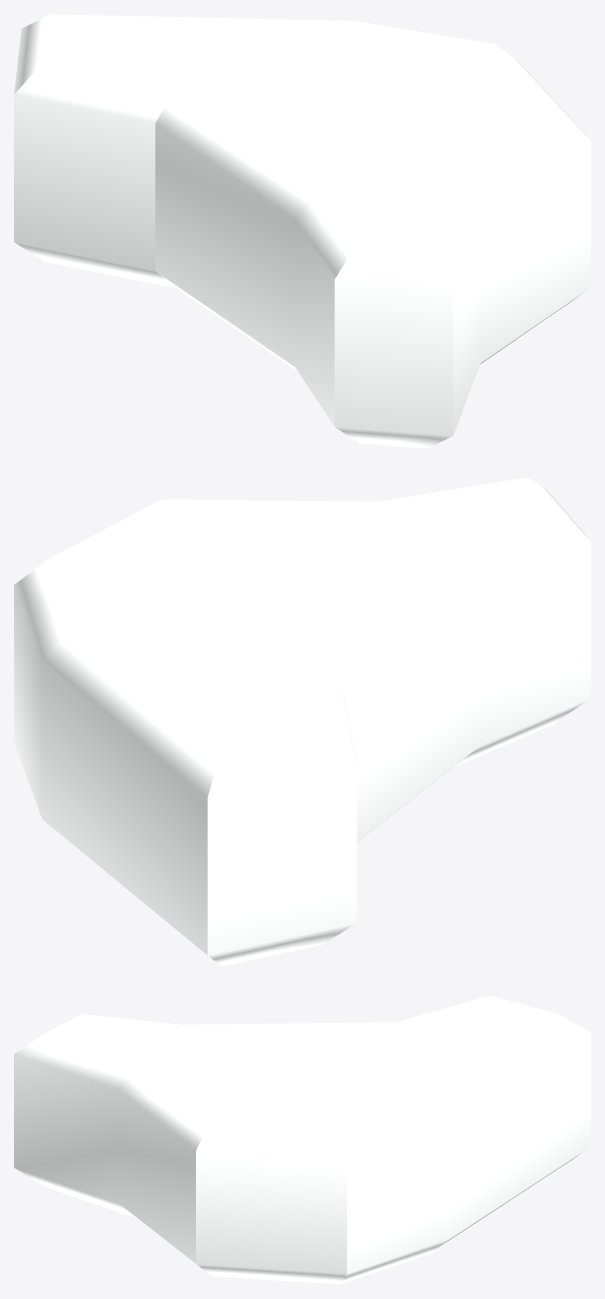
The model's file is ice_floe_small_005.glb.
The picture shows the model from 3 angles, top to bottom: view 1: azimuth 30°, elevation 25°; view 2: azimuth 150°, elevation 25°; view 3: azimuth 270°, elevation 25°; orthographic projection. The views are drawn at different scales.
Visible parts, largest first — view 1: ice_floe_small_005; view 2: ice_floe_small_005; view 3: ice_floe_small_005.
Boxes of the visible parts, box(x1,y1,x2,y2) form: ice_floe_small_005: box(14, 14, 590, 448); ice_floe_small_005: box(14, 477, 590, 966); ice_floe_small_005: box(14, 995, 590, 1284).
Size of the model in its own units: 1.48 by 0.6962 by 2.32.
Materials: 1 (1 with a texture image).
